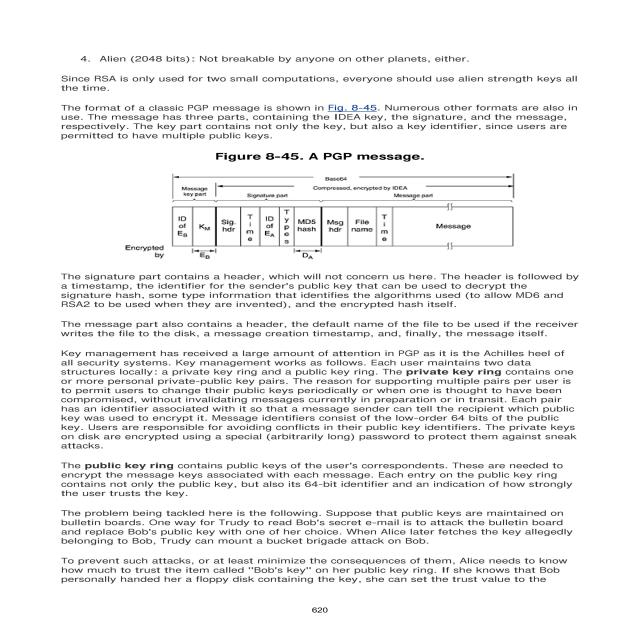diagram: (80, 141, 578, 263)
